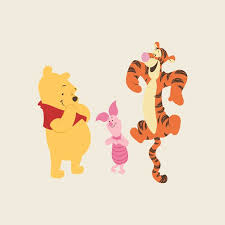Winnie: (34, 65, 90, 120)
